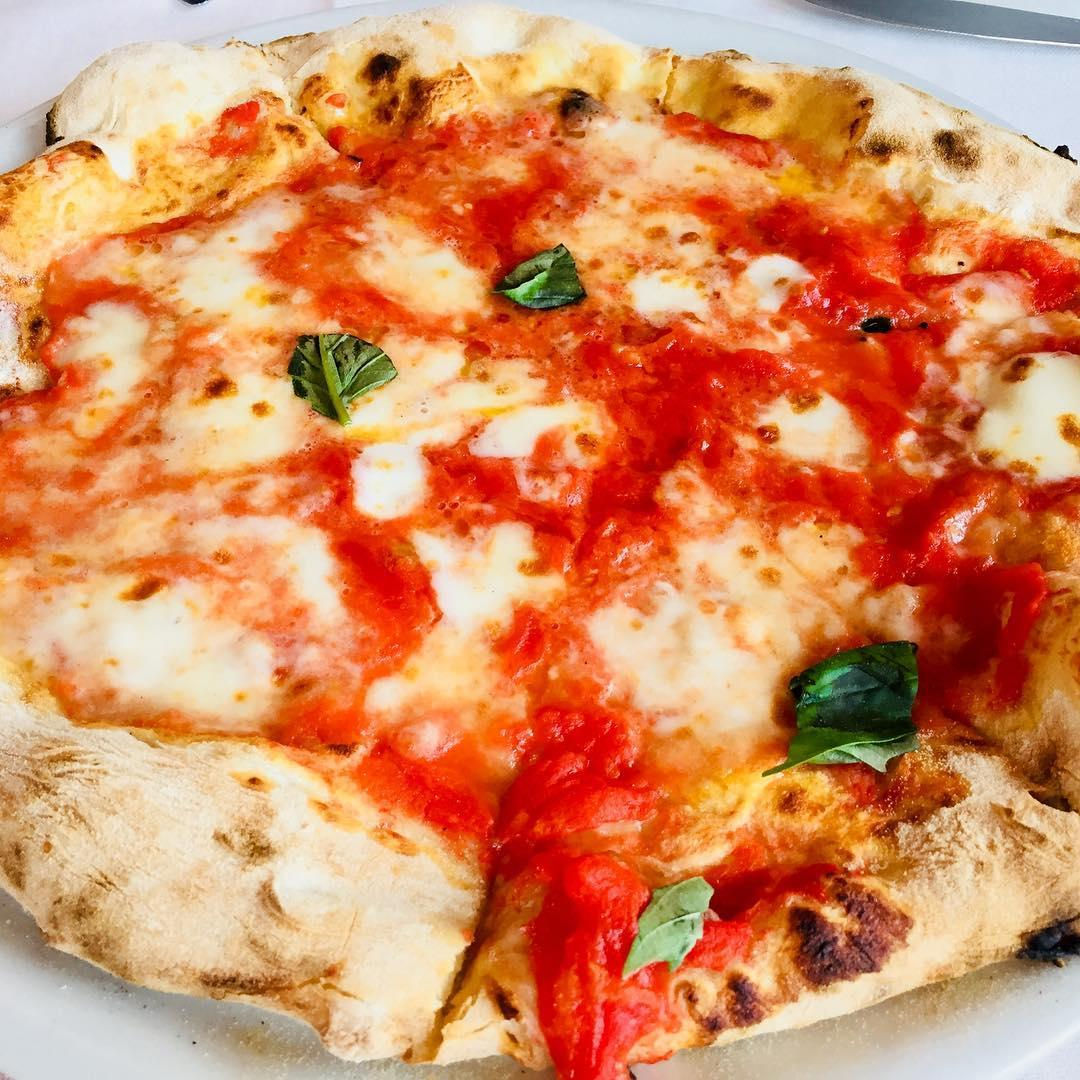Basil: (766, 633, 937, 796), (285, 319, 401, 434), (618, 875, 713, 982), (492, 236, 592, 319)
Pizza: (0, 6, 1080, 1074)
